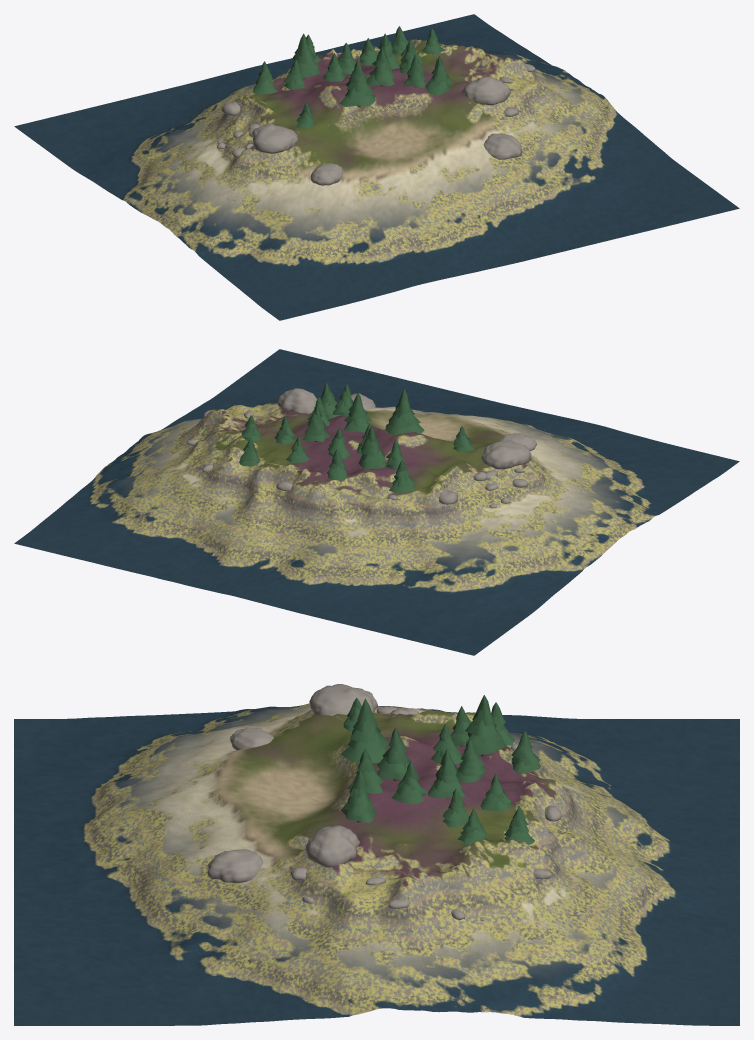
The model's file is island_bridge.glb.
The picture shows the model from 3 angles, top to bottom: view 1: azimuth 30°, elevation 25°; view 2: azimuth 150°, elevation 25°; view 3: azimuth 270°, elevation 25°; orthographic projection. The views are drawn at different scales.
Parts seen in each view (by area): view 1: Land, TreeFoliage, Boulders; view 2: Land, TreeFoliage, Boulders; view 3: Land, TreeFoliage, Boulders.
Part boxes in pixels (box(x1,y1,x2,y2)): Land: box(14, 14, 739, 320); TreeFoliage: box(252, 26, 452, 128); Boulders: box(216, 52, 535, 185); Land: box(14, 349, 739, 655); TreeFoliage: box(239, 382, 474, 493); Boulders: box(186, 388, 536, 507); Land: box(14, 703, 739, 1025); TreeFoliage: box(341, 695, 541, 845); Boulders: box(207, 684, 561, 919).
Bounding box in the file's own units: 56 × 13.47 × 56.
4 materials, 1 textured.
